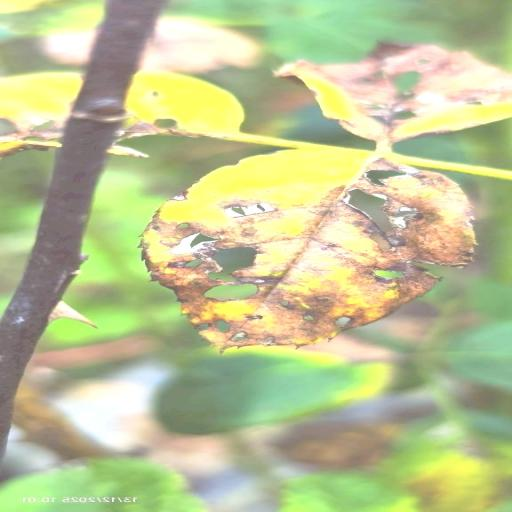thrip: (142, 150, 473, 348), (276, 44, 511, 143), (121, 71, 244, 138), (0, 72, 82, 132)
